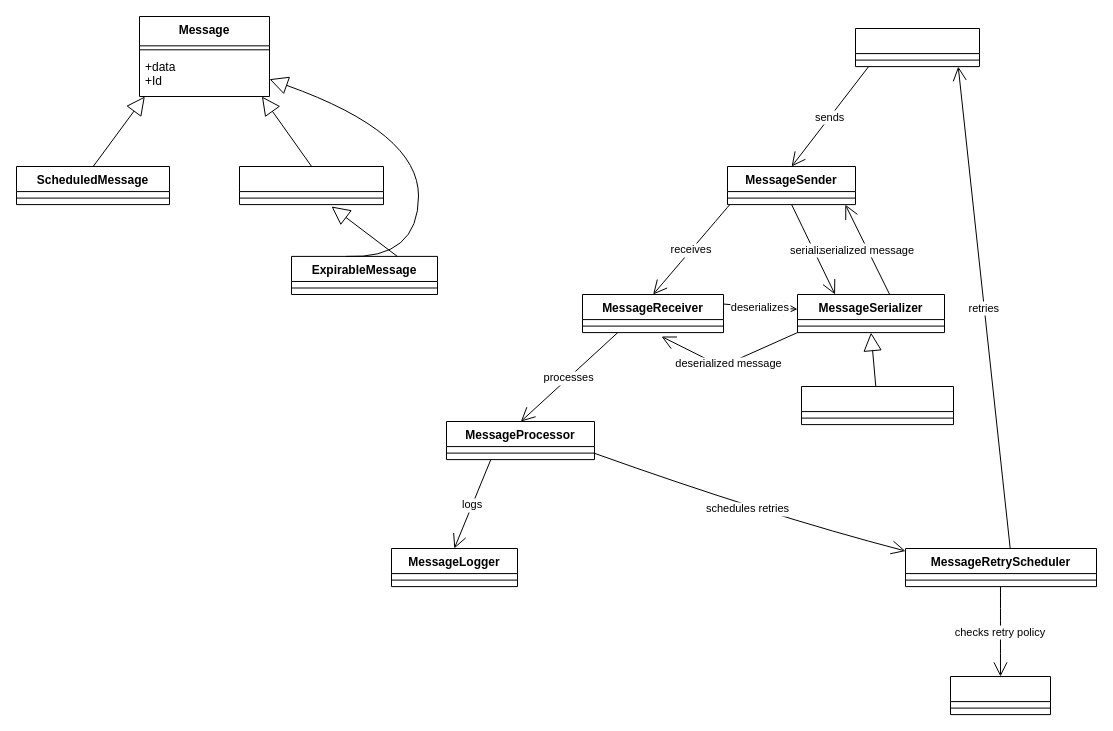
Some shapes in this 1113 by 731 pixel diagram are drawn without their labels. The shapes that lost their labels are listed below. From the top down, each one's centre as x and y in pixels, then its label:
At pixel 917 47: "MessageQueue".
At pixel 311 185: "RetriableMessage".
At pixel 877 405: "BinarySerializer".
At pixel 1000 695: "RetryPolicy".
